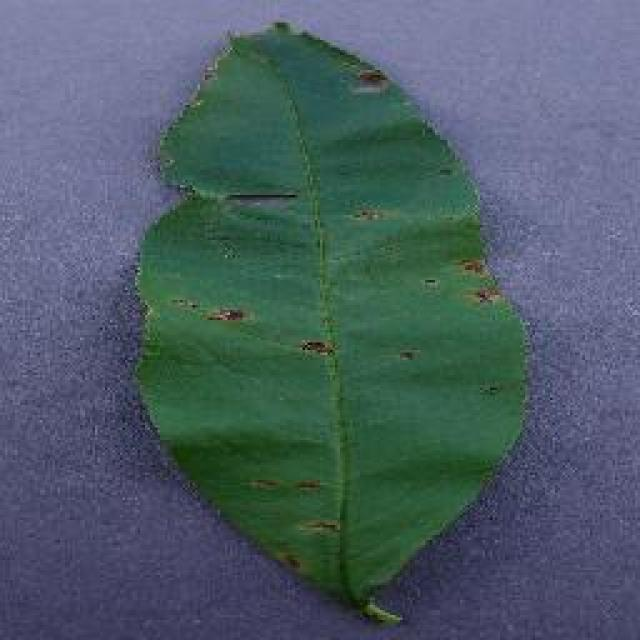Peach_Bacterial_Spot: (193, 121, 550, 522)
